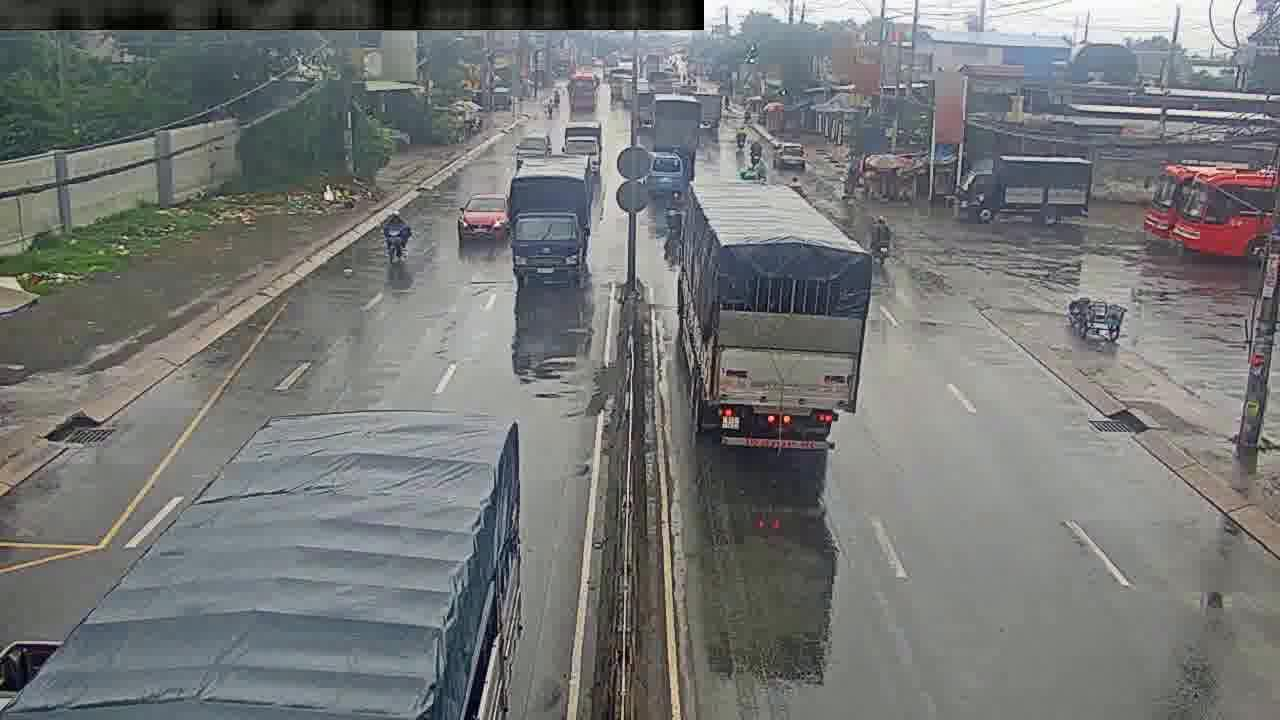8: (0, 410, 528, 720), (677, 175, 866, 454), (509, 161, 595, 278), (655, 95, 705, 159)
container: (462, 188, 504, 238)
motorbike: (383, 203, 410, 268), (874, 216, 893, 265), (666, 192, 681, 232), (752, 157, 770, 185), (785, 175, 805, 192)
